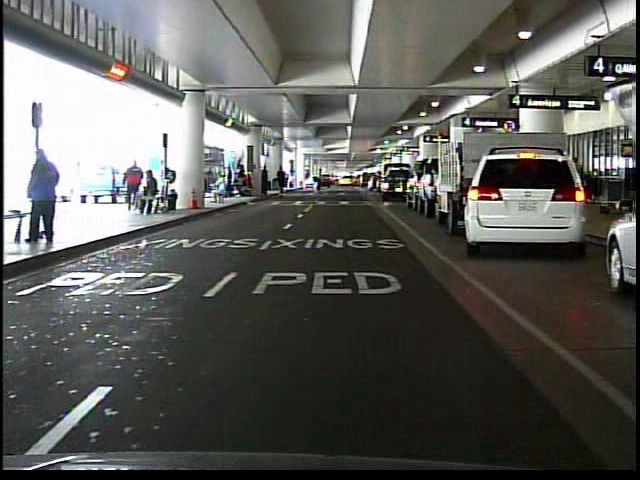person: (24, 145, 69, 251), (210, 171, 230, 206), (311, 166, 326, 196)
